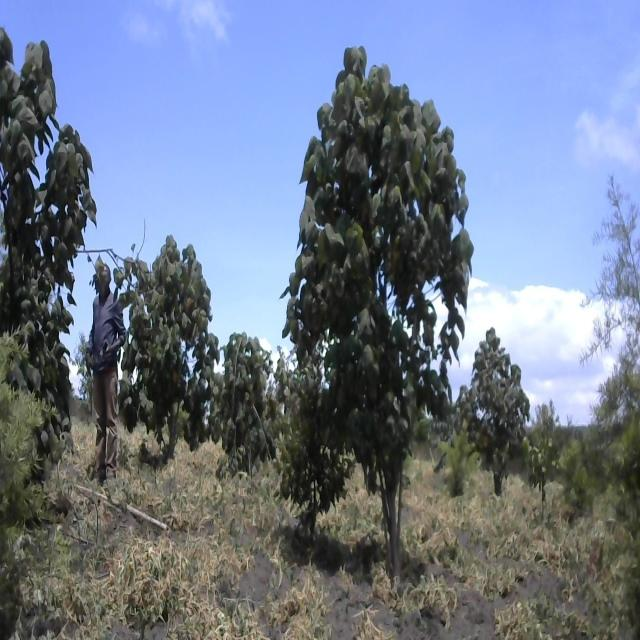Dombeya torrida: (284, 38, 475, 583), (0, 24, 97, 460), (124, 232, 223, 452), (465, 324, 529, 497), (218, 329, 276, 473)
Podocarpus falcatus: (579, 166, 640, 640), (0, 330, 43, 636)
